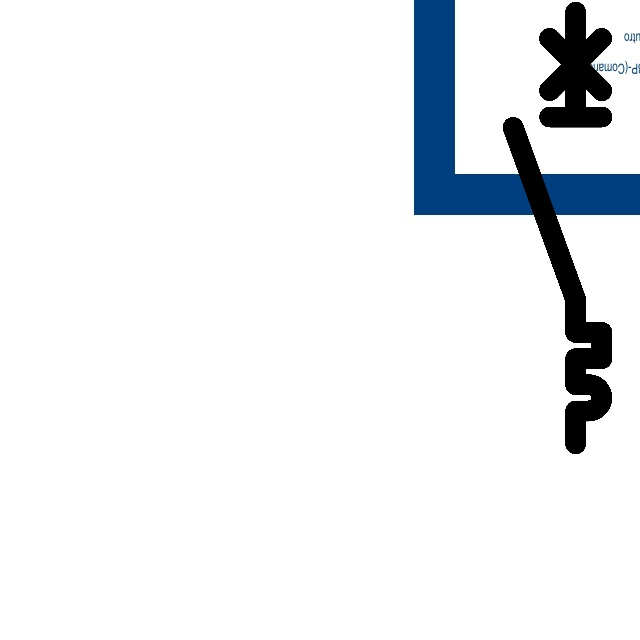interruptor_termomagnetico: (502, 1, 613, 455)
